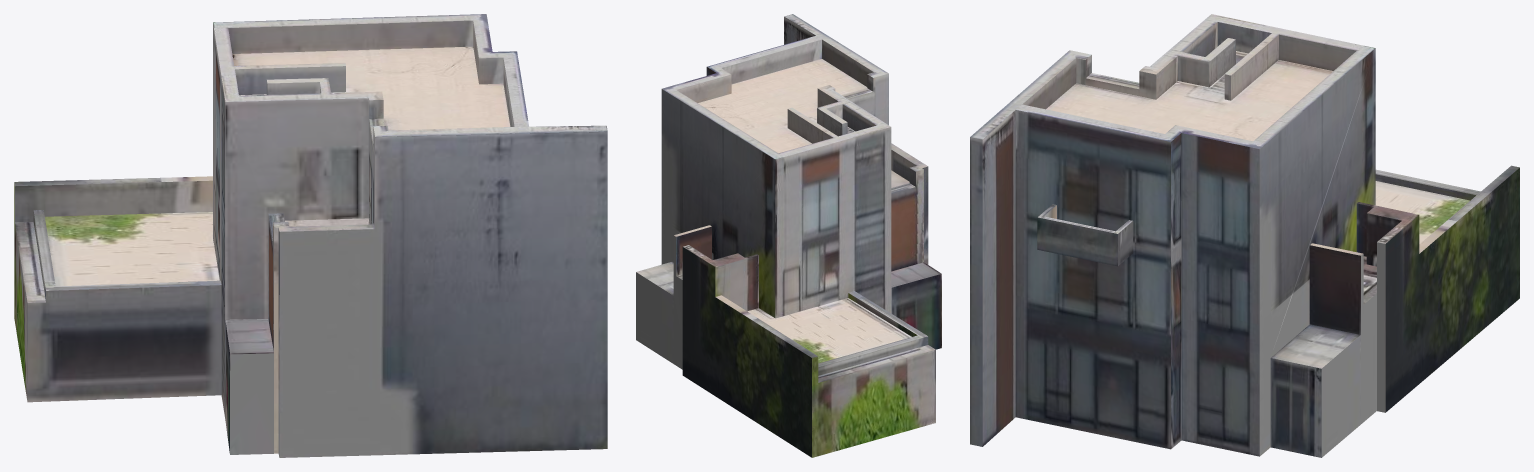
3 views of the same model, side by side, from view 1: azimuth 30°, elevation 25°; view 2: azimuth 150°, elevation 25°; view 3: azimuth 270°, elevation 25° (orthographic). The views are drawn at different scales.
Visible parts, largest first — view 1: B288054033501063A0; view 2: B288054033501063A0; view 3: B288054033501063A0.
Boxes of the visible parts, box(x1,y1,x2,y2) form: B288054033501063A0: box(14, 14, 607, 457); B288054033501063A0: box(636, 14, 941, 457); B288054033501063A0: box(970, 14, 1519, 457).
Size of the model in its own units: 16.79 by 12.25 by 19.75.
1 material, 1 textured.
